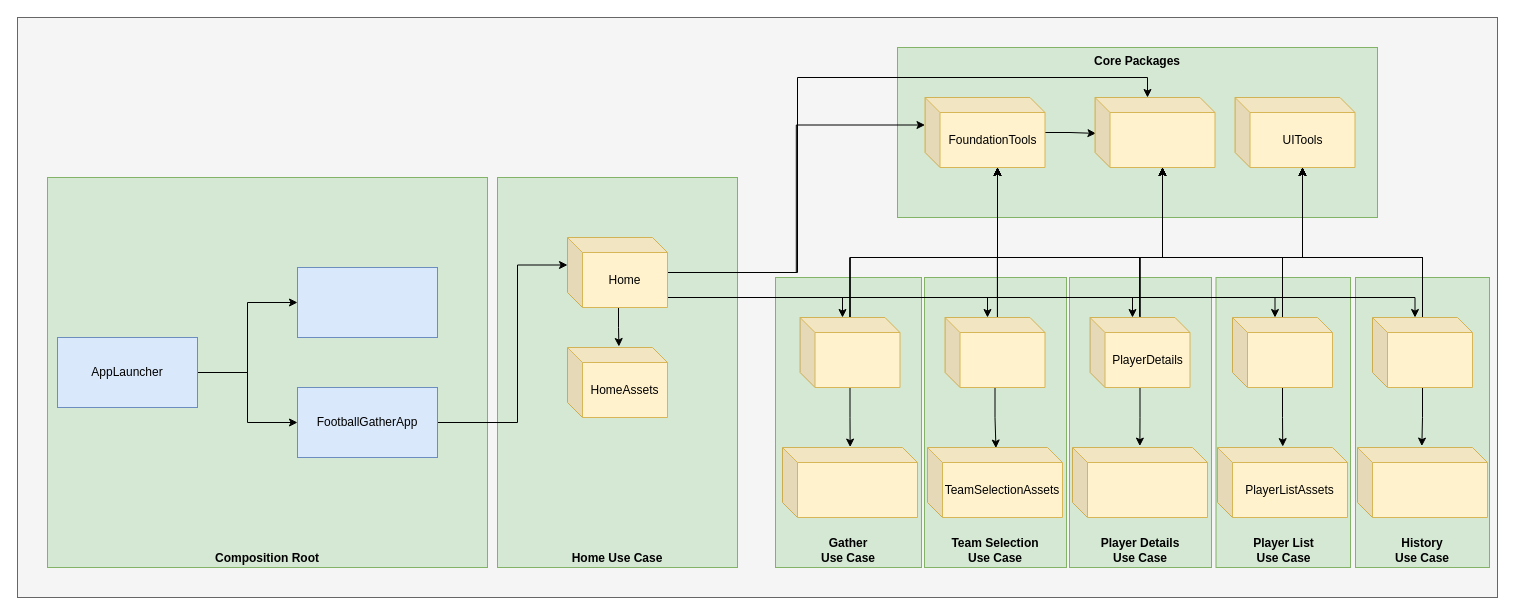
The diagram is 1515 pixels wide and 615 high, and some of its shapes have lost their labels. The shapes that lost their labels are listed below. From the top down, each one's centre as x and y in pixels, then its label:
At point 1154,132: "CoreModels".
At point 367,302: "TestApp".
At point 849,352: "Gather".
At point 994,352: "TeamSelection".
At point 1282,352: "PlayerList".
At point 1422,352: "History".
At point 850,482: "GatherAssets".
At point 1140,482: "PlayerDetailsAssets".
At point 1422,482: "HistoryAssets".
